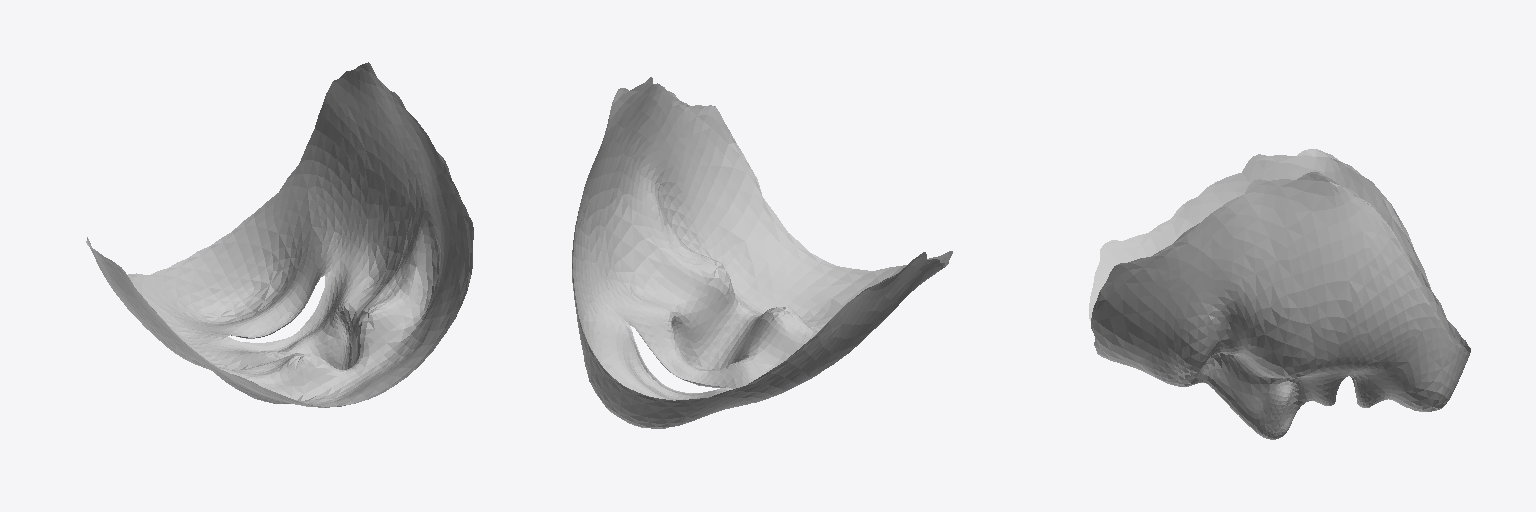
Rendered from face_gab_sfm12.obj.
3 renders of one model, left to right at view 1: azimuth 30°, elevation 25°; view 2: azimuth 150°, elevation 25°; view 3: azimuth 270°, elevation 25°, orthographic.
Size of the model in its own units: 163 by 153 by 179.